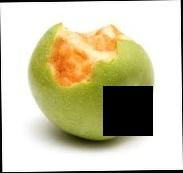rotten apple: (25, 15, 163, 143)
